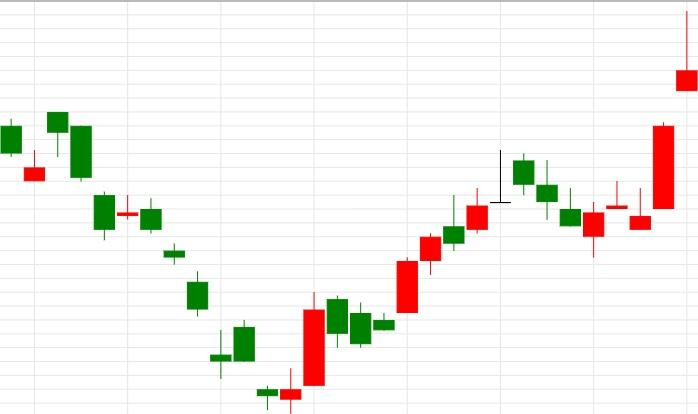bullish_engulfing_rise: (46, 111, 302, 414)
shooting_star_fall: (629, 10, 698, 231)
three_black_crows_fall: (349, 151, 582, 348)
